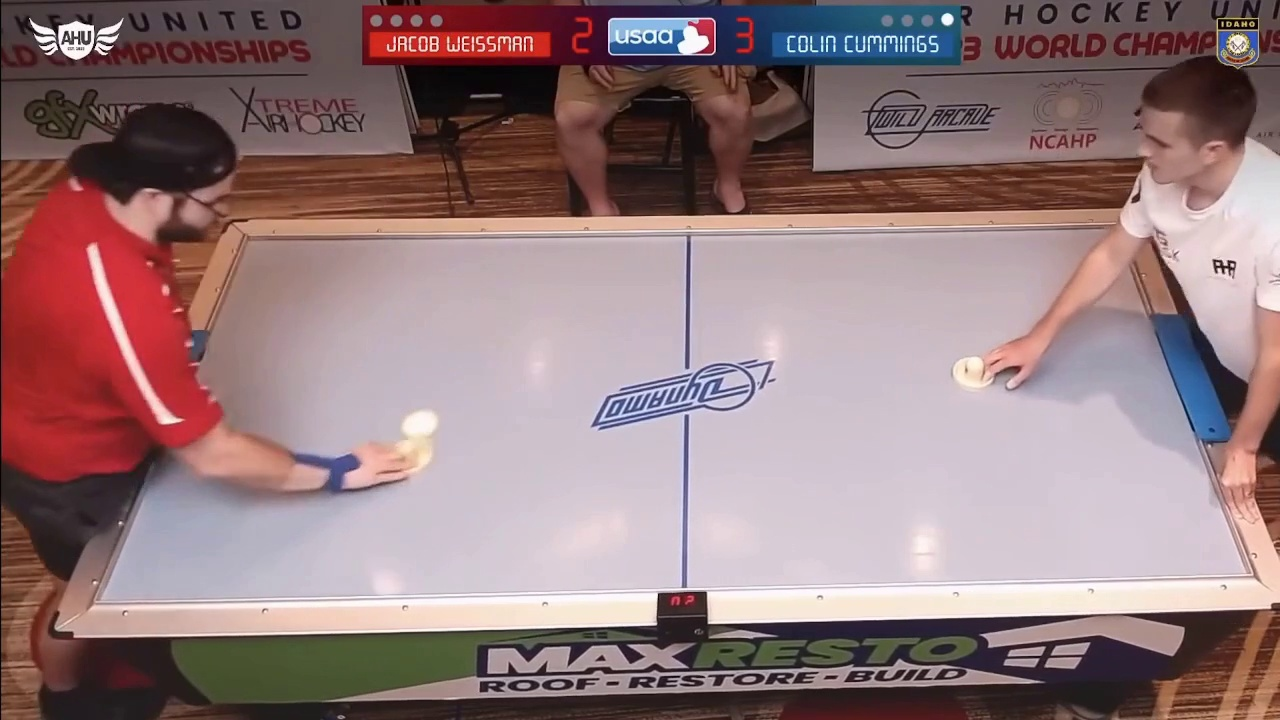player: (381, 438, 435, 471), (952, 353, 996, 390)
puck: (399, 411, 443, 438)
table: (114, 221, 1278, 595)
